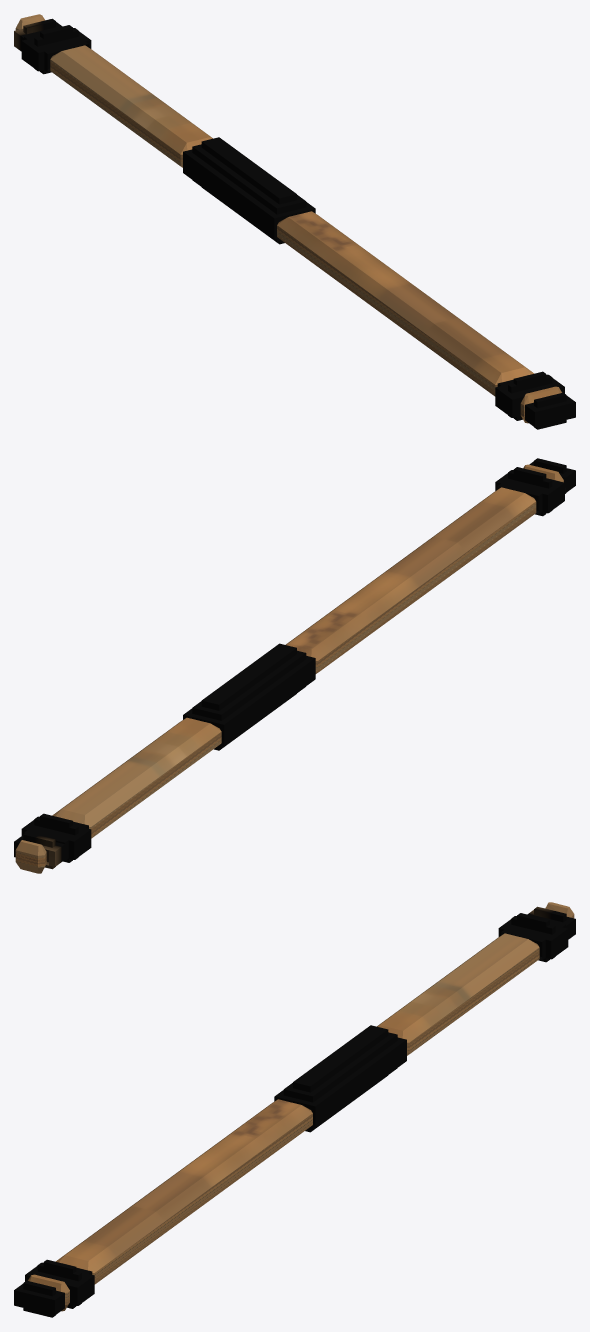
Rendered from qimei_staff.obj.
The picture shows the model from 3 angles, top to bottom: view 1: azimuth 30°, elevation 25°; view 2: azimuth 150°, elevation 25°; view 3: azimuth 330°, elevation 25°; orthographic projection.
Parts seen in each view (by area): view 1: qimei_staff; view 2: qimei_staff; view 3: qimei_staff.
Boxes of the visible parts, box(x1,y1,x2,y2) form: qimei_staff: box(14, 14, 575, 429); qimei_staff: box(14, 458, 575, 873); qimei_staff: box(14, 902, 575, 1317).
Size of the model in its own units: 0.0938 by 0.0781 by 1.63.
